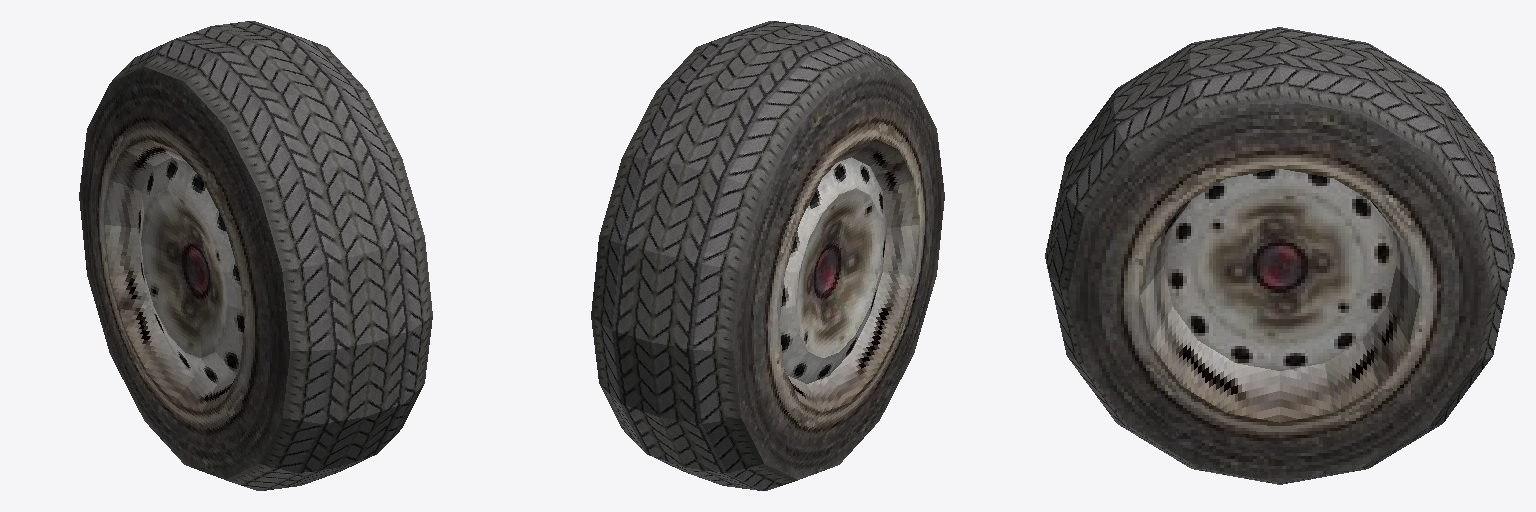
3 views of the same model, side by side, from view 1: azimuth 30°, elevation 25°; view 2: azimuth 150°, elevation 25°; view 3: azimuth 270°, elevation 25° (orthographic).
Visible parts, largest first — view 1: wheel; view 2: wheel; view 3: wheel.
Boxes of the visible parts, <box> form: wheel: <box>79,21,432,490</box>; wheel: <box>591,21,944,490</box>; wheel: <box>1045,27,1514,484</box>.
Bounding box in the file's own units: 8 × 20.02 × 20.02.
3 materials, 2 textured.